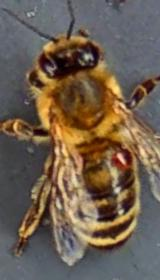varroa_mite: (93, 138, 144, 184)
